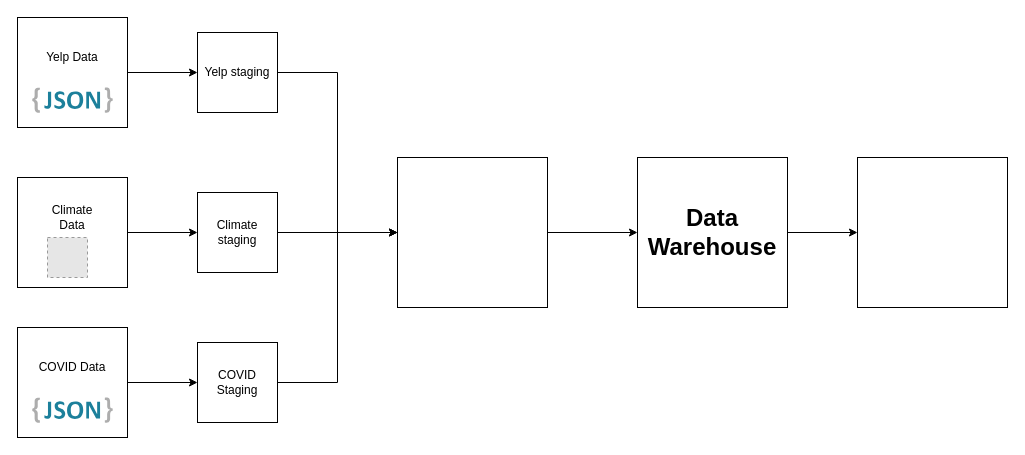
The diagram is 1025 pixels wide and 455 high, and some of its shapes have lost their labels. Grey dashed boxes stand in for pictures. Each missing label, with the centre of its shape:
Analysis & reporting: (932,232)
ODS: (472,232)
